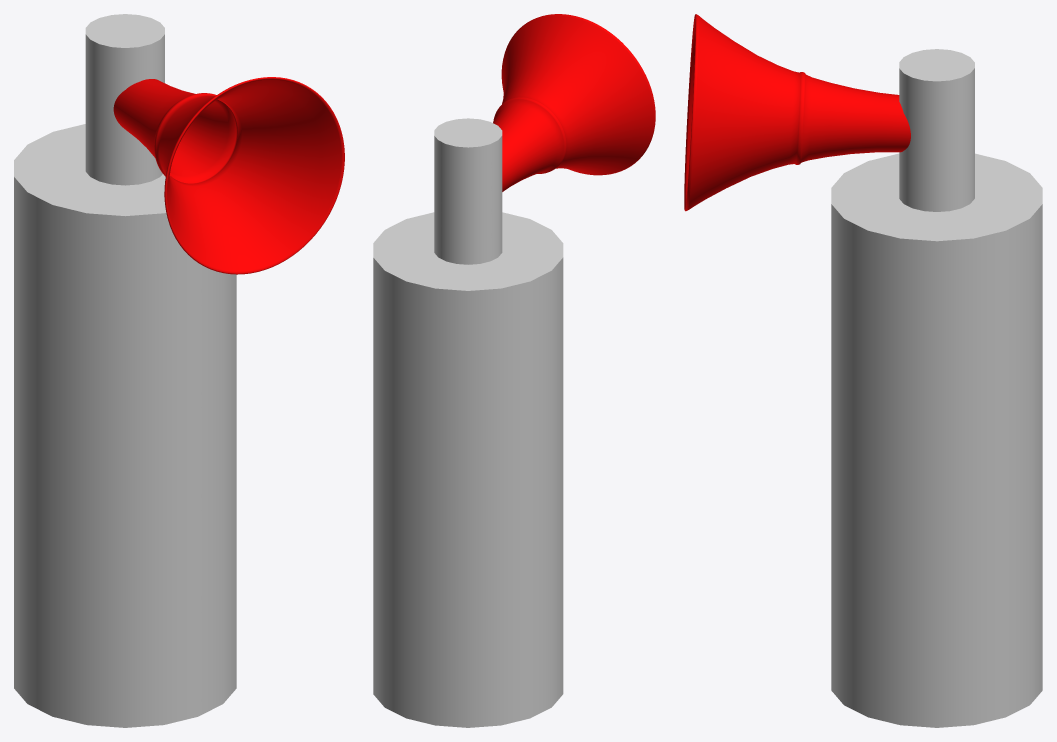
The model's file is AirHorn.FBX.
3 views of the same model, side by side, from view 1: azimuth 30°, elevation 25°; view 2: azimuth 150°, elevation 25°; view 3: azimuth 270°, elevation 25° (orthographic). The views are drawn at different scales.
Parts seen in each view (by area): view 1: Cylinder001, spain, Cylinder002; view 2: Cylinder001, spain, Cylinder002; view 3: Cylinder001, spain, Cylinder002.
Part boxes in pixels (<box>): Cylinder001: <box>14,124,236,727</box>; spain: <box>113,77,344,274</box>; Cylinder002: <box>85,14,164,185</box>; Cylinder001: <box>373,212,563,727</box>; spain: <box>493,14,655,191</box>; Cylinder002: <box>434,118,502,264</box>; Cylinder001: <box>831,153,1042,727</box>; spain: <box>684,14,910,211</box>; Cylinder002: <box>899,49,974,211</box>.
Bounding box in the file's own units: 0.6 × 1 × 2.03.
